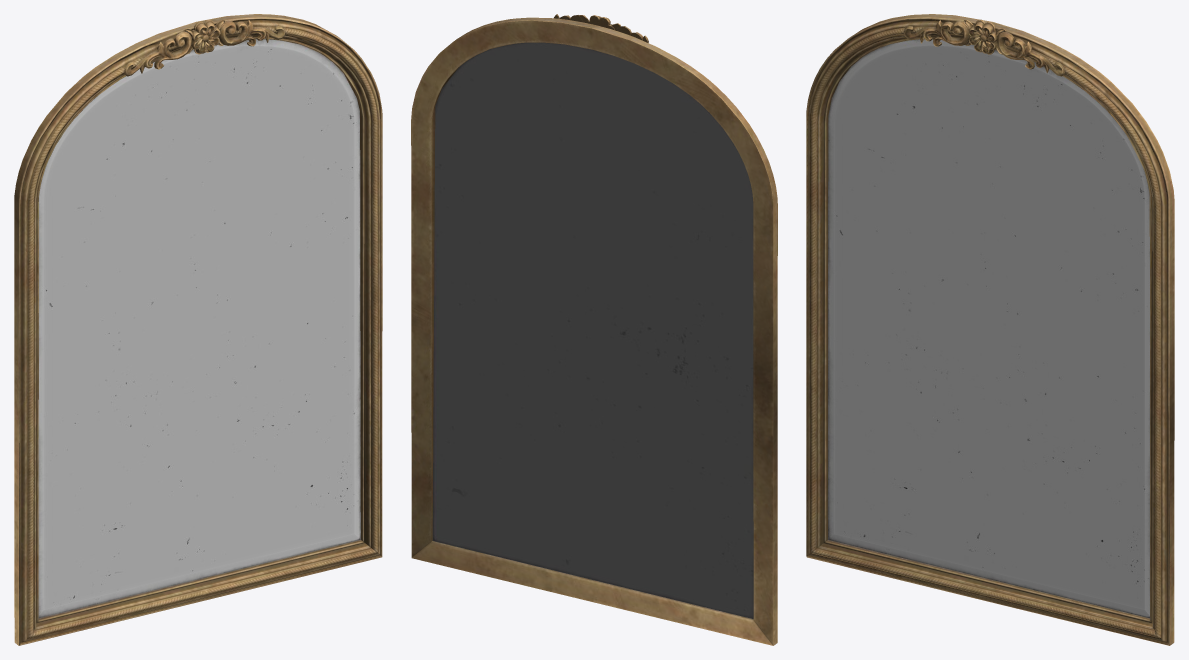
File: ornate_mirror_01.glb
3 views of the same model, side by side, from view 1: azimuth 30°, elevation 25°; view 2: azimuth 150°, elevation 25°; view 3: azimuth 330°, elevation 25° (orthographic).
Visible parts, largest first — view 1: ornate_mirror_01; view 2: ornate_mirror_01; view 3: ornate_mirror_01.
Boxes of the visible parts, x1,y1,x2,y2 form: ornate_mirror_01: (14, 14, 382, 645); ornate_mirror_01: (411, 14, 777, 645); ornate_mirror_01: (806, 14, 1174, 645).
Size of the model in its own units: 0.4861 by 0.7442 by 0.026.
Materials: 1 (1 with a texture image).
